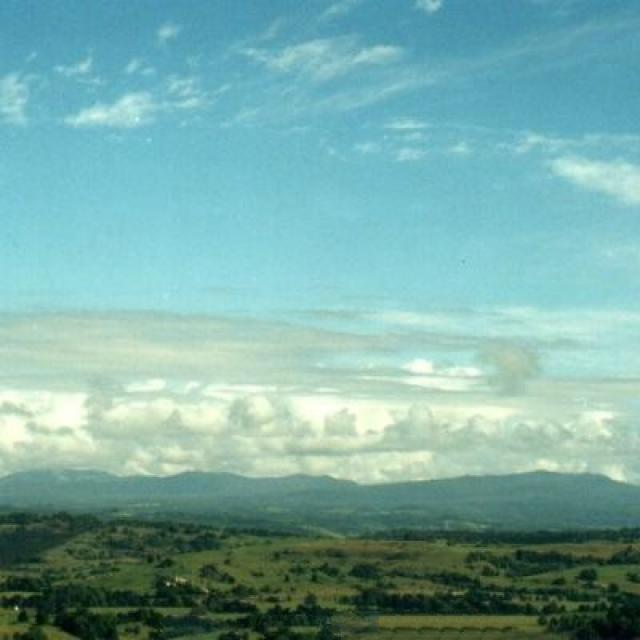St: (2, 79, 640, 468)
